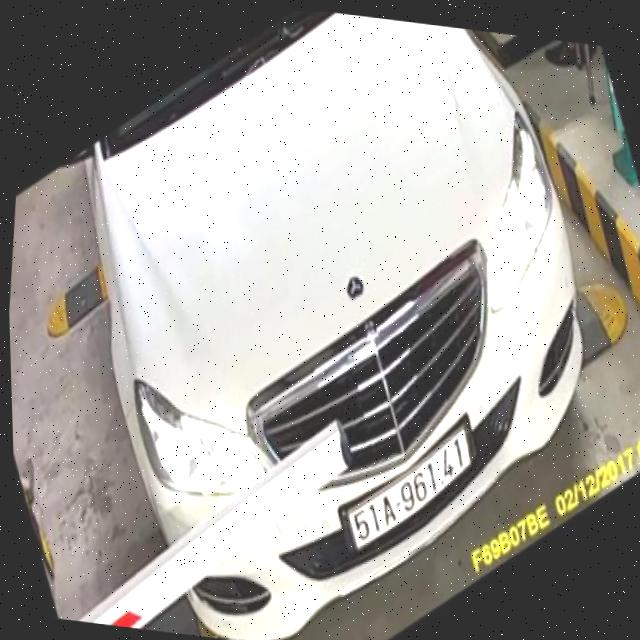car: (35, 1, 622, 640)
plate: (337, 412, 482, 566)
